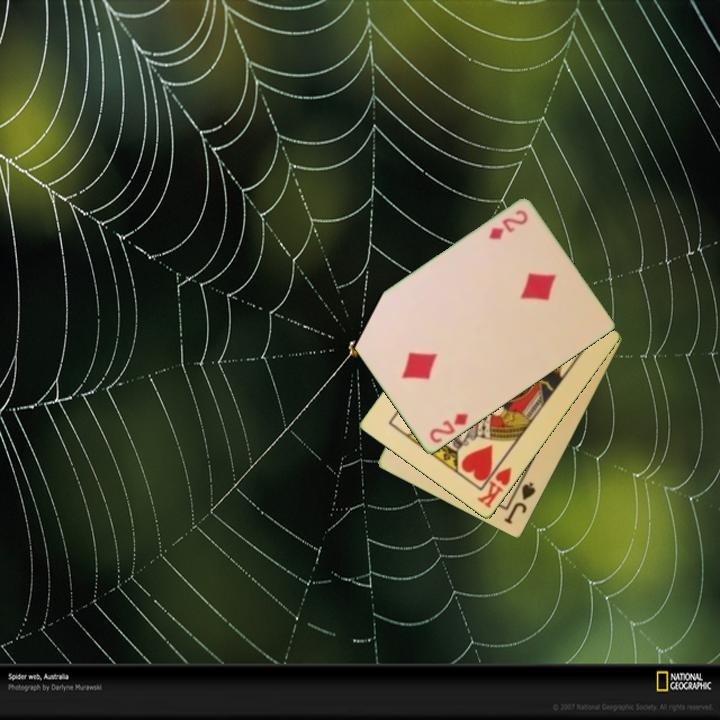2d: (485, 206, 531, 243), (426, 410, 471, 447)
Js: (501, 479, 539, 527)
Kh: (474, 456, 515, 512)
